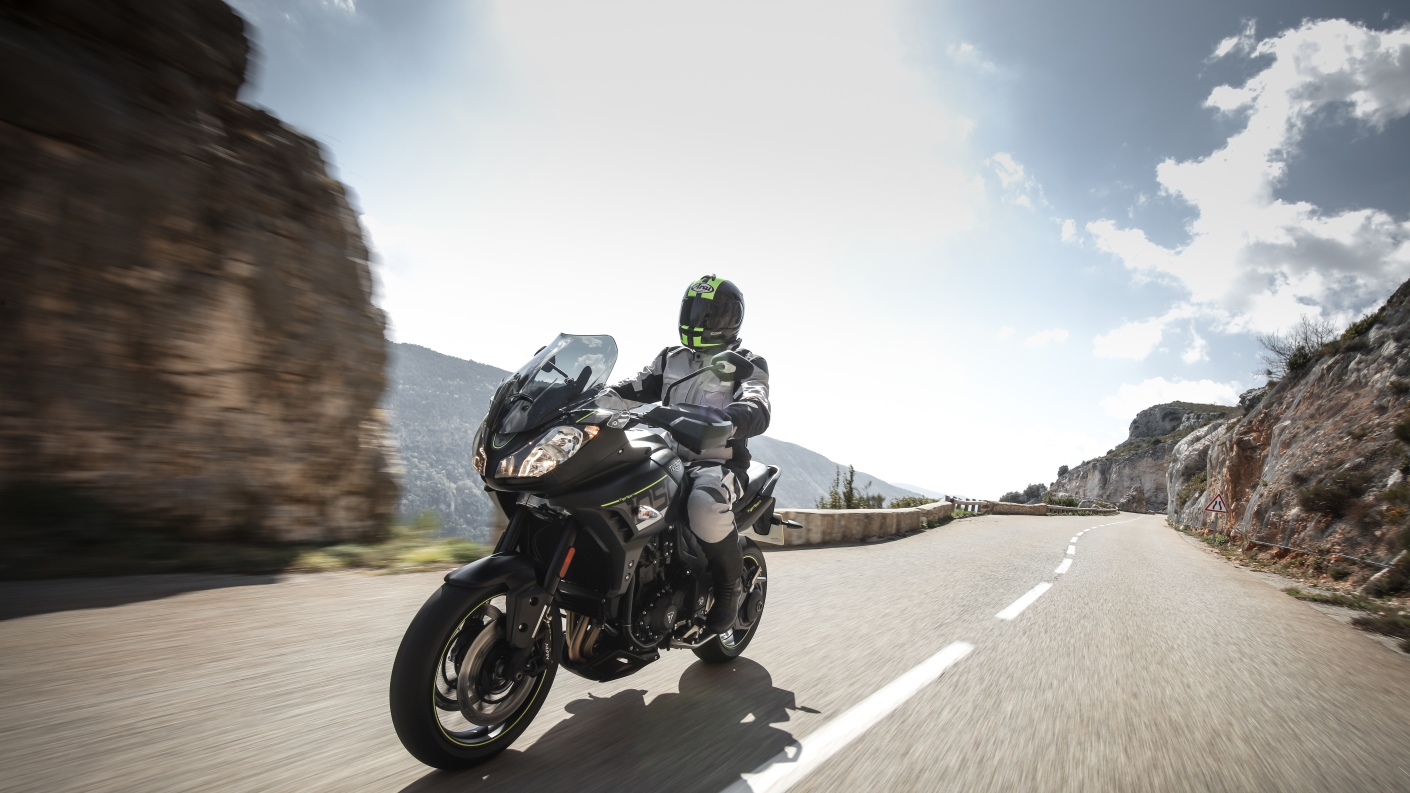helmet: (512, 273, 769, 669)
